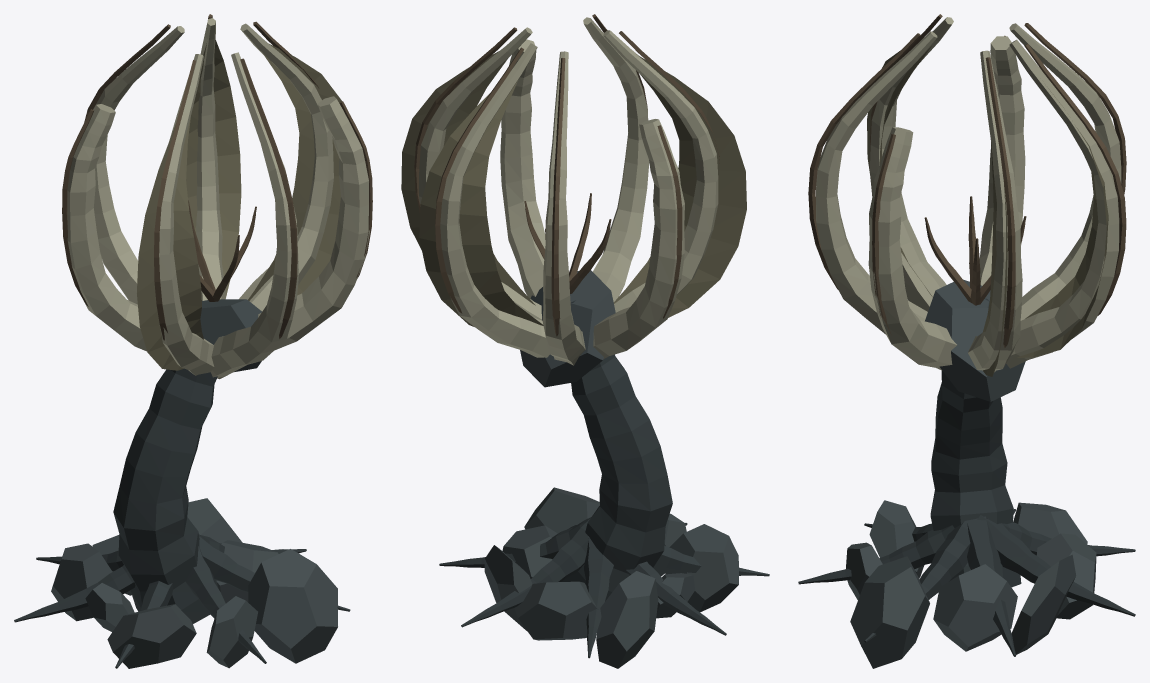
The model's file is hollow-lantern.glb.
3 renders of one model, left to right at view 1: azimuth 30°, elevation 25°; view 2: azimuth 150°, elevation 25°; view 3: azimuth 270°, elevation 25°, orthographic. The views are drawn at different scales.
Parts seen in each view (by area): view 1: Pale fossil ribs, Basalt matrix, Carbonised mineral bark, Dry ochre membranes, Extinguished copper veins; view 2: Pale fossil ribs, Basalt matrix, Carbonised mineral bark, Dry ochre membranes, Extinguished copper veins; view 3: Pale fossil ribs, Basalt matrix, Carbonised mineral bark, Extinguished copper veins, Dry ochre membranes.
Boxes of the visible parts, <box> form: Pale fossil ribs: <box>67,18,369,379</box>; Basalt matrix: <box>51,299,337,668</box>; Carbonised mineral bark: <box>14,368,350,668</box>; Dry ochre membranes: <box>137,40,342,370</box>; Extinguished copper veins: <box>62,14,372,340</box>; Pale fossil ribs: <box>419,17,718,365</box>; Basalt matrix: <box>484,270,738,668</box>; Carbonised mineral bark: <box>439,300,769,658</box>; Dry ochre membranes: <box>401,51,746,326</box>; Extinguished copper veins: <box>414,14,719,336</box>; Pale fossil ribs: <box>816,17,1121,372</box>; Basalt matrix: <box>846,279,1096,668</box>; Carbonised mineral bark: <box>798,298,1135,656</box>; Extinguished copper veins: <box>808,14,1126,347</box>; Dry ochre membranes: <box>867,46,1108,376</box>.
Bounding box in the file's own units: 1.91 × 3.24 × 1.62.
